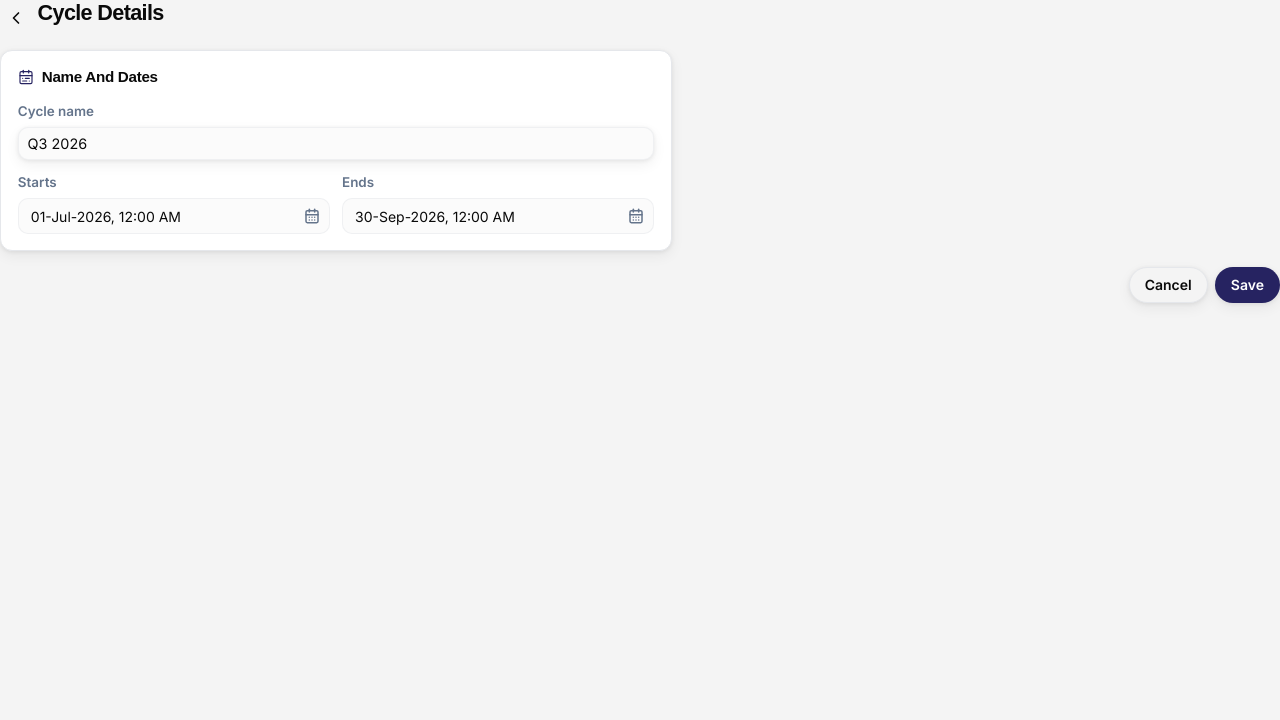
Test: CycleDetailsEditPage › blocks end dates before the start date in the picker
This screenshot has width=1280, height=720.
Click the field labelled "Ends" at (498, 216), box [342,198,654,234]
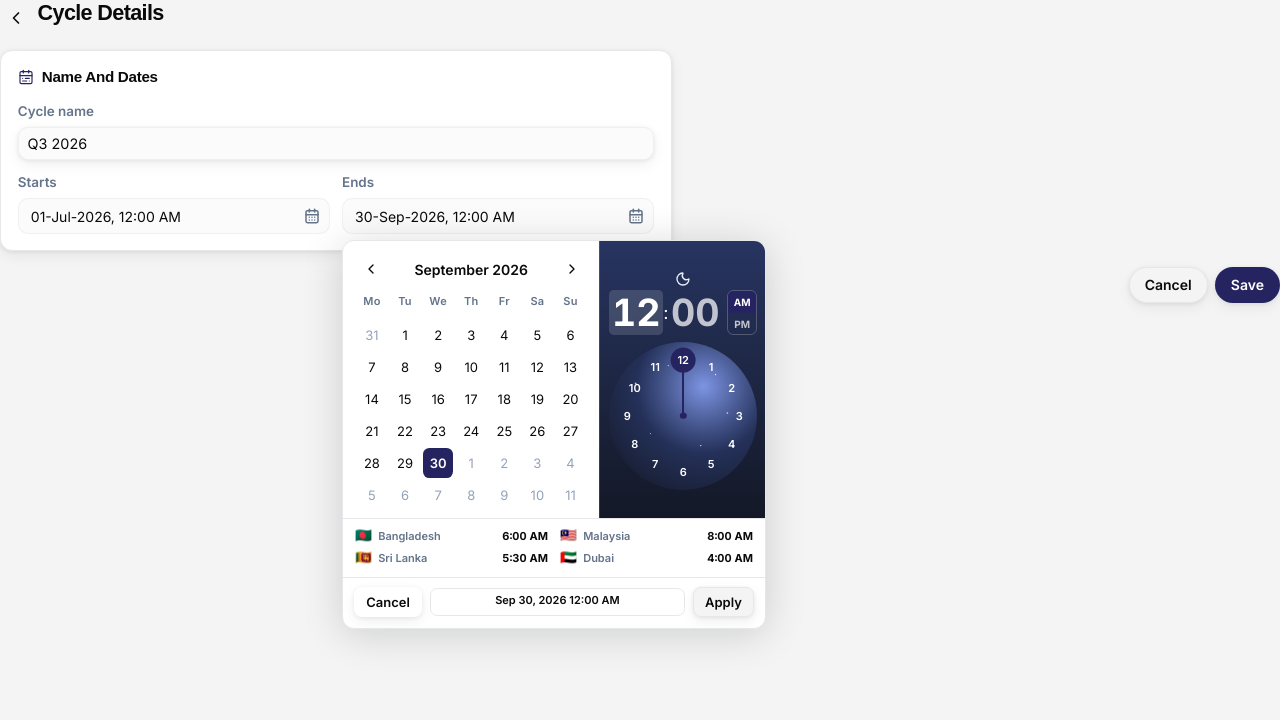
Click the button named "Previous month" at (371, 269), box [357,255,385,283]
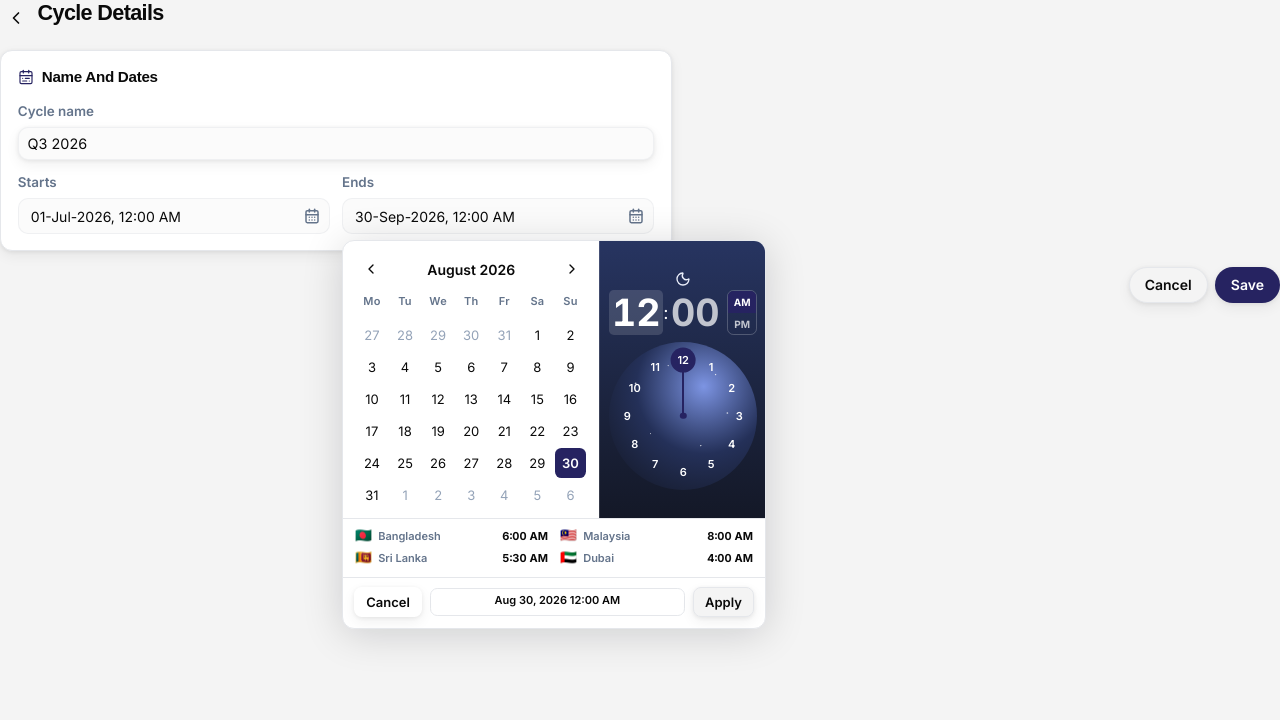
Click the button named "Previous month" at (371, 269), box [357,255,385,283]
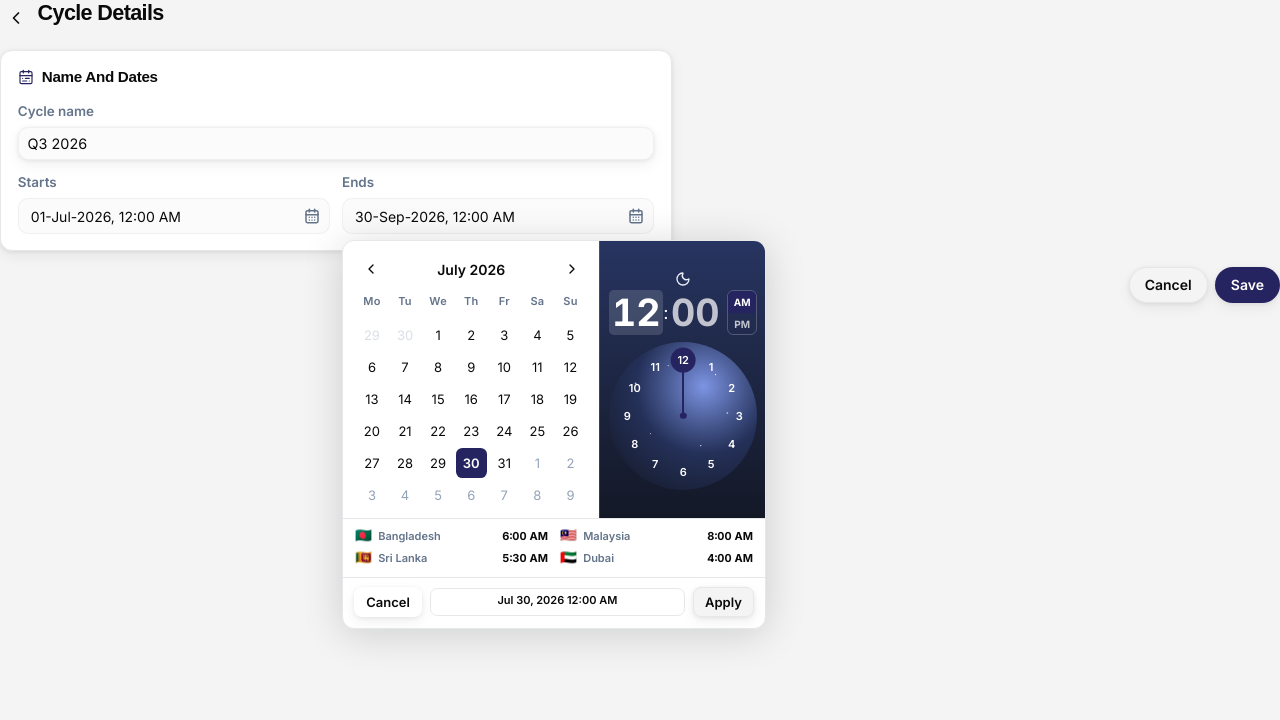
Click the button named "Previous month" at (371, 269), box [357,255,385,283]
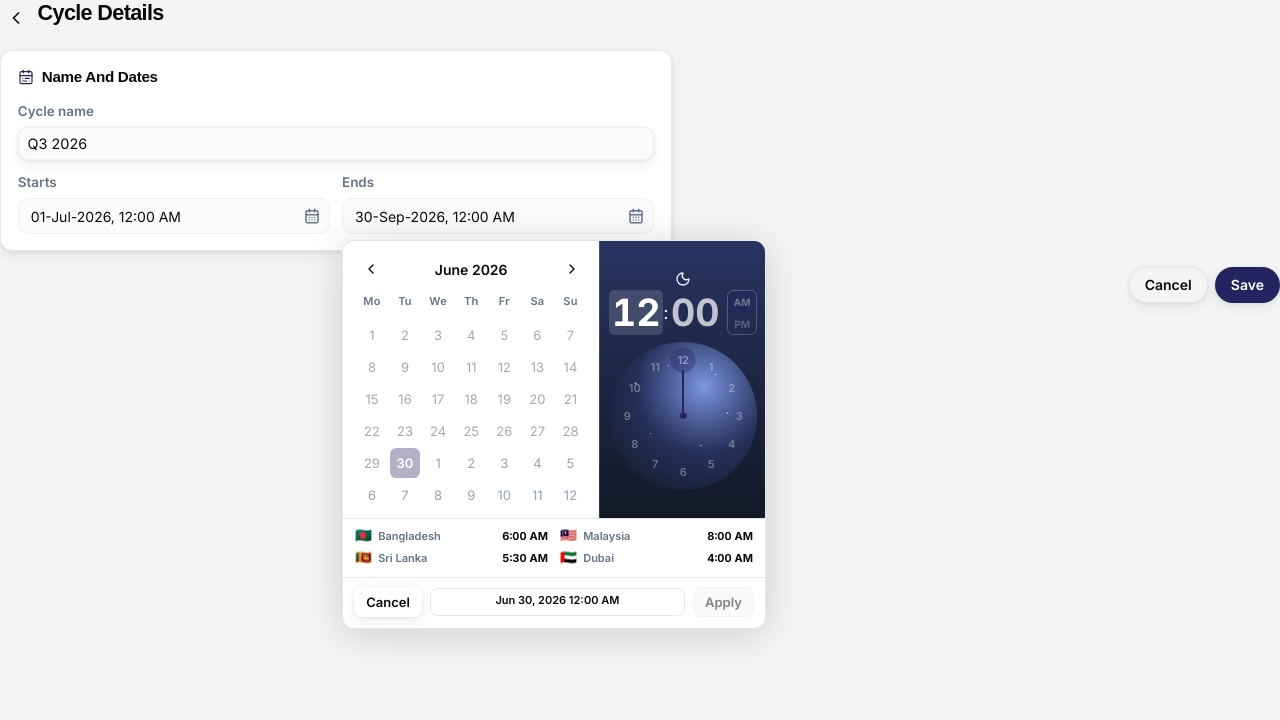
Expected: the text "June 2026" is shown, [435,261,508,278]
Expected: the button "15" is disabled, [357,384,387,414]
